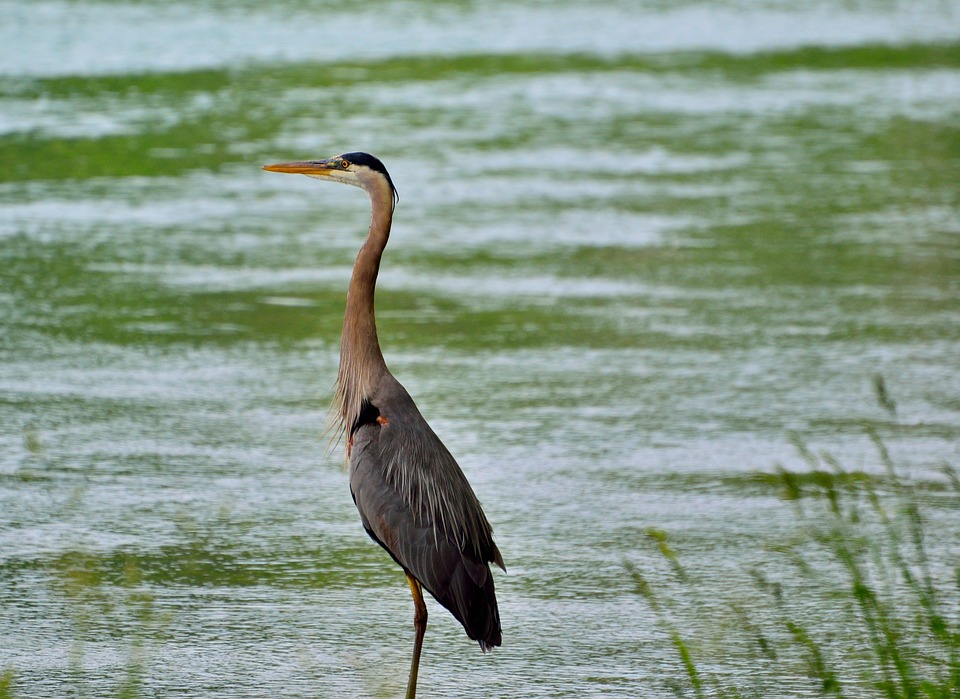heron: (254, 147, 507, 699)
